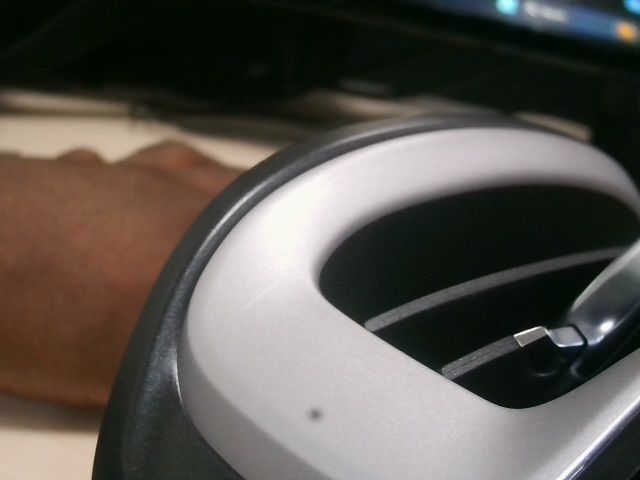NG: (238, 275, 285, 321)
